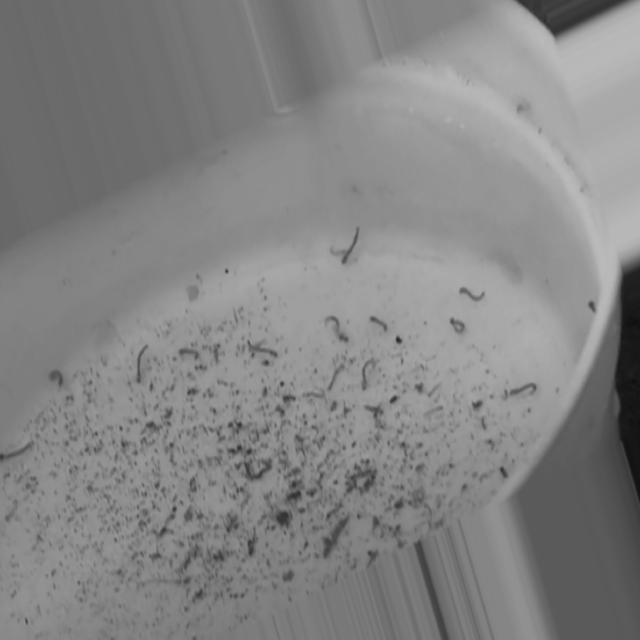larvas: (341, 223, 363, 273), (0, 440, 35, 461), (326, 315, 348, 344), (248, 342, 278, 358), (510, 383, 538, 399), (328, 362, 343, 391), (459, 285, 484, 302), (361, 356, 373, 391), (136, 343, 146, 382), (305, 387, 325, 403), (48, 371, 63, 390), (425, 406, 443, 420), (451, 318, 464, 337), (372, 317, 388, 331), (180, 347, 198, 359), (427, 382, 439, 400), (330, 245, 346, 256)
